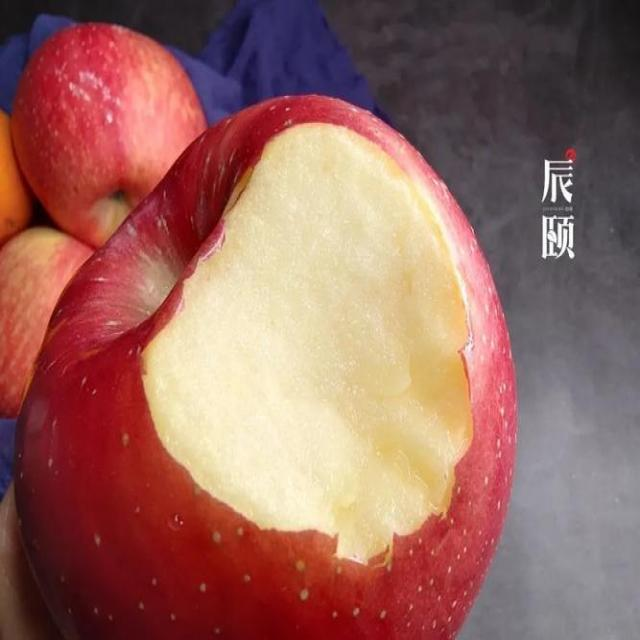Rotten: (34, 106, 517, 640)
